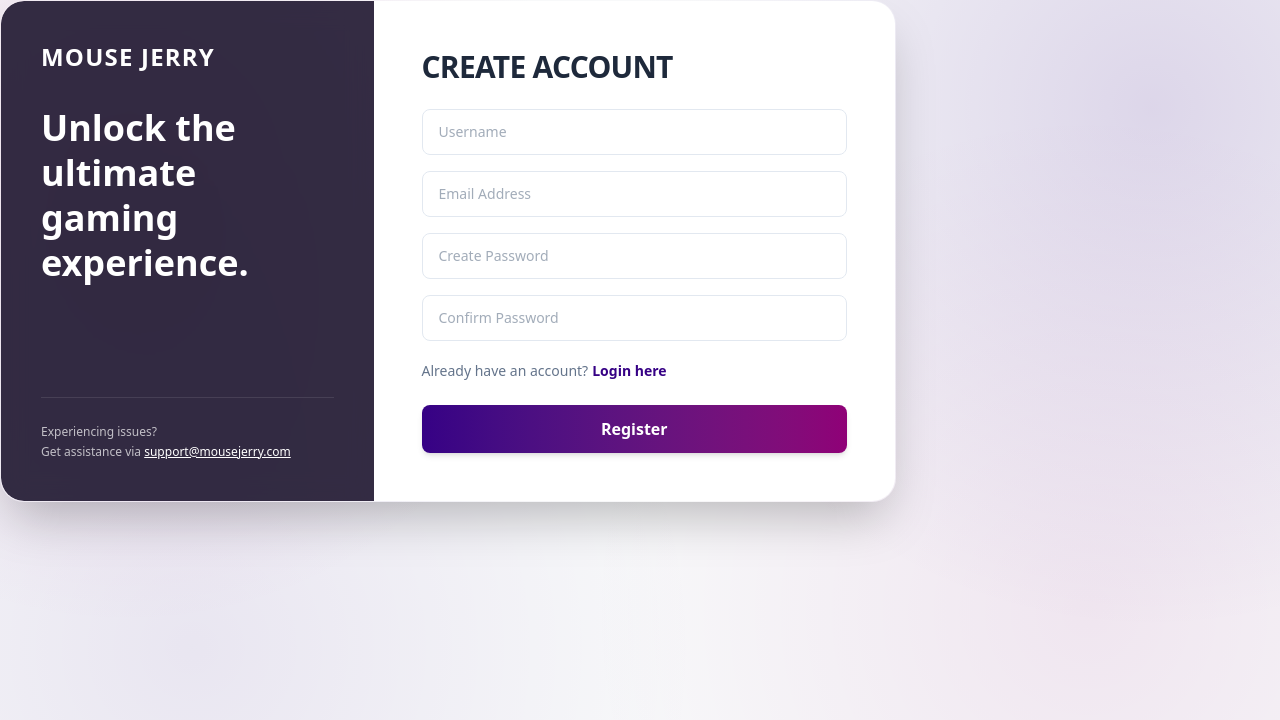
Test: AuthCard › shows error when passwords do not match in register mode
Type "testuser" into the field with test id "input-username" at (634, 132), box [422,109,847,155]
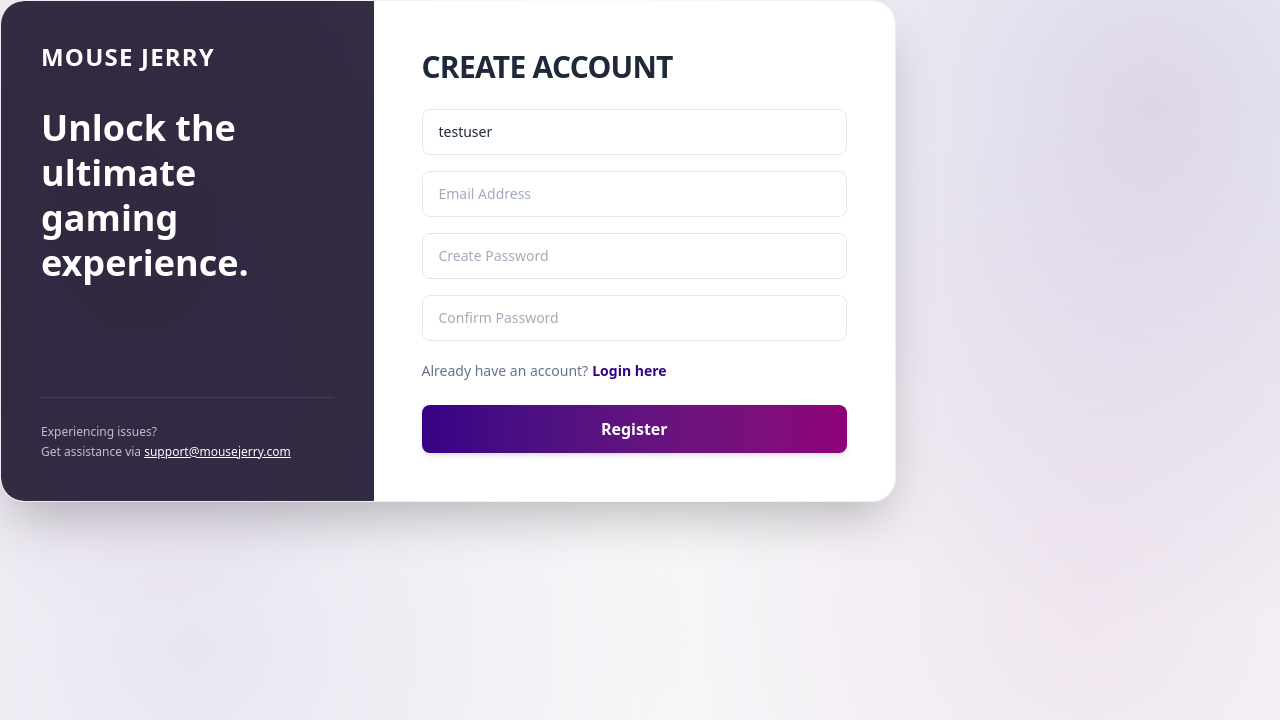
Type "user@example.com" into the field with test id "input-email" at (634, 194), box [422,171,847,217]
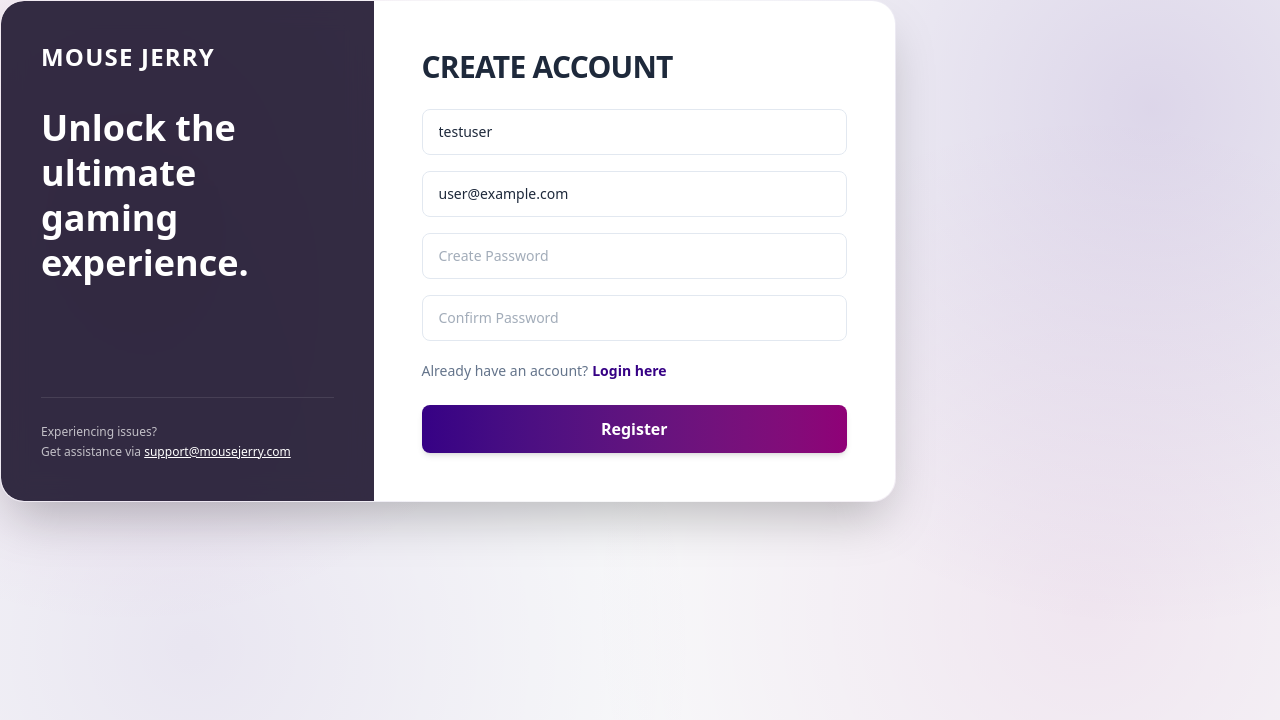
Type "secret123" into the password field with test id "input-password" at (634, 256), box [422,233,847,279]
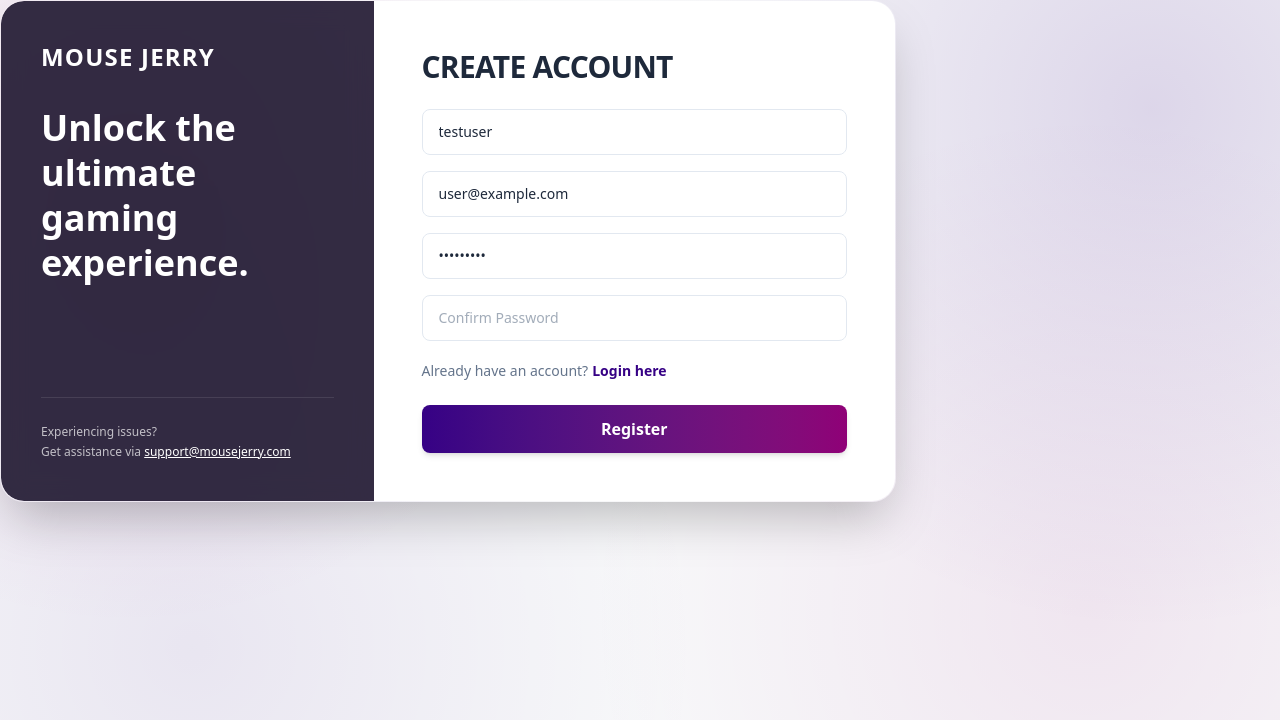
Type "different123" into the password field with test id "input-confirm-password" at (634, 318), box [422,295,847,341]
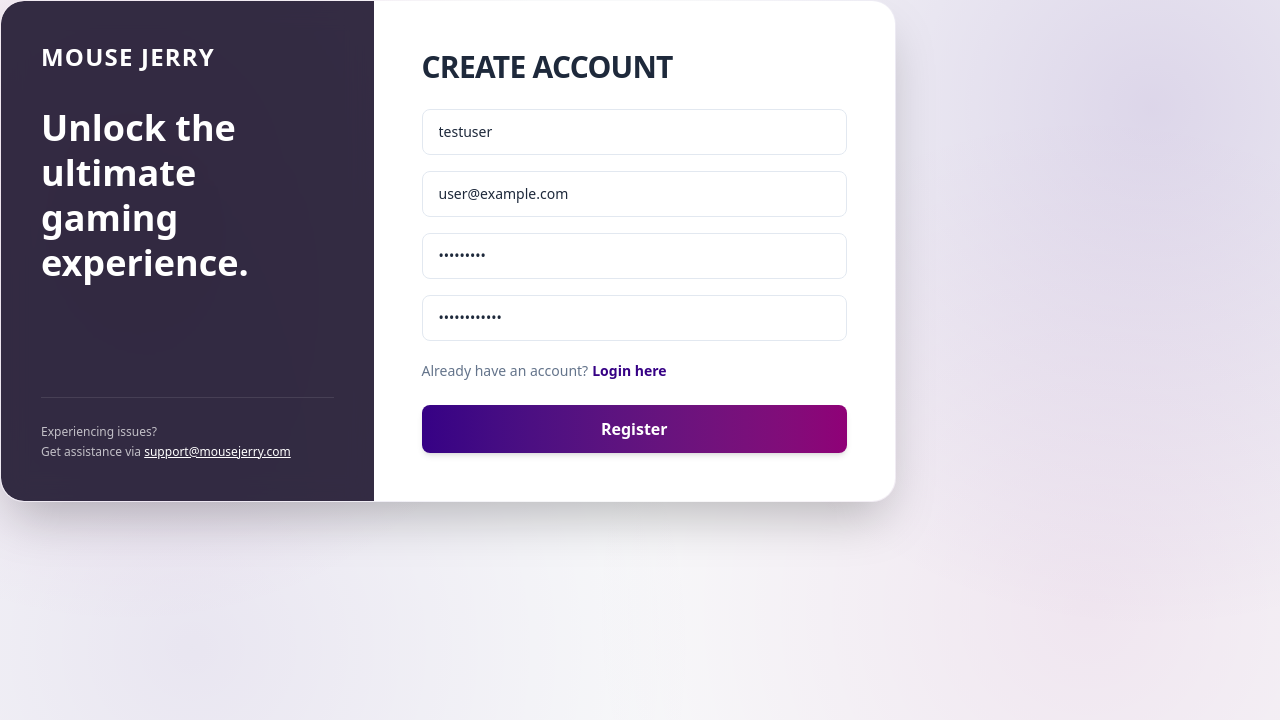
Submit the form with test id "auth-form", box [422,109,847,453]
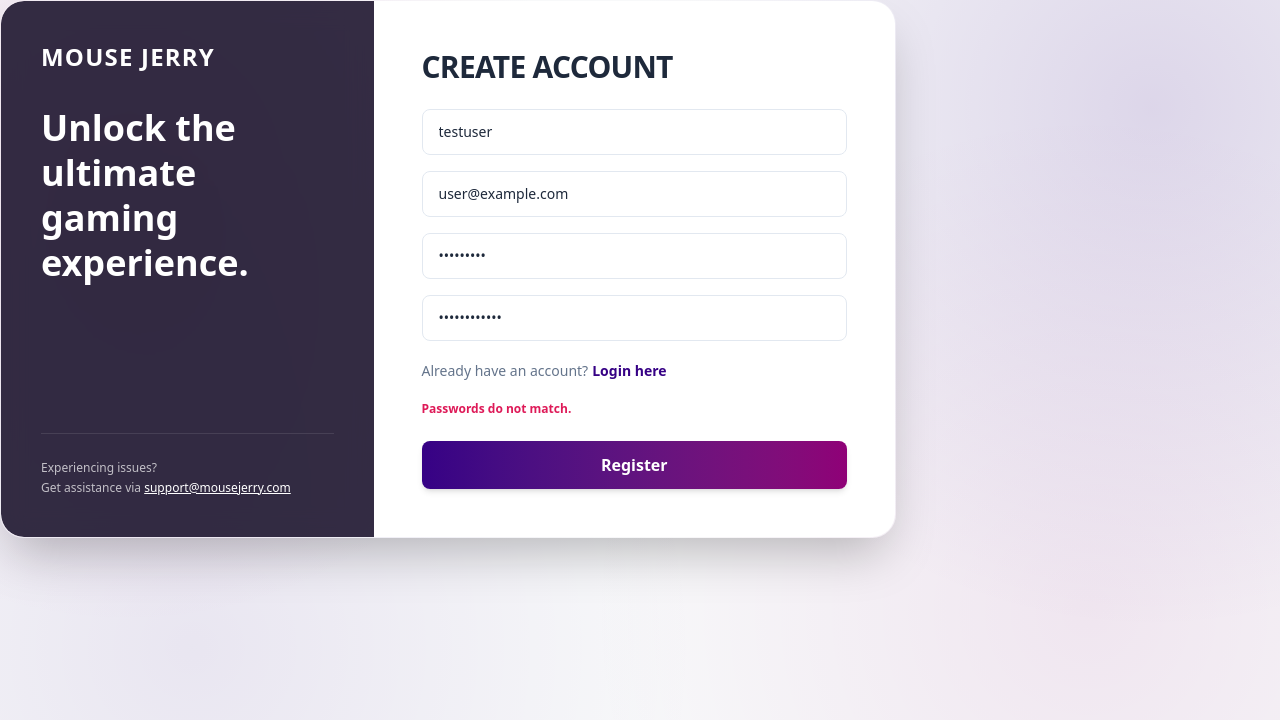
Now the text with test id "error-msg" reads "Passwords do not match.", box [422,400,571,417]
